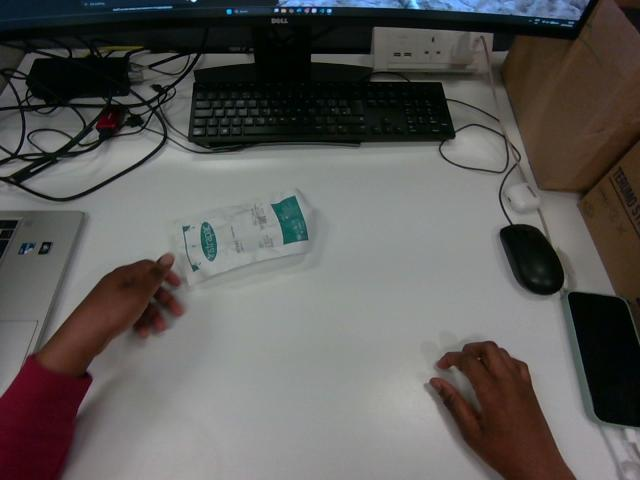gallipot: (170, 189, 311, 284)
